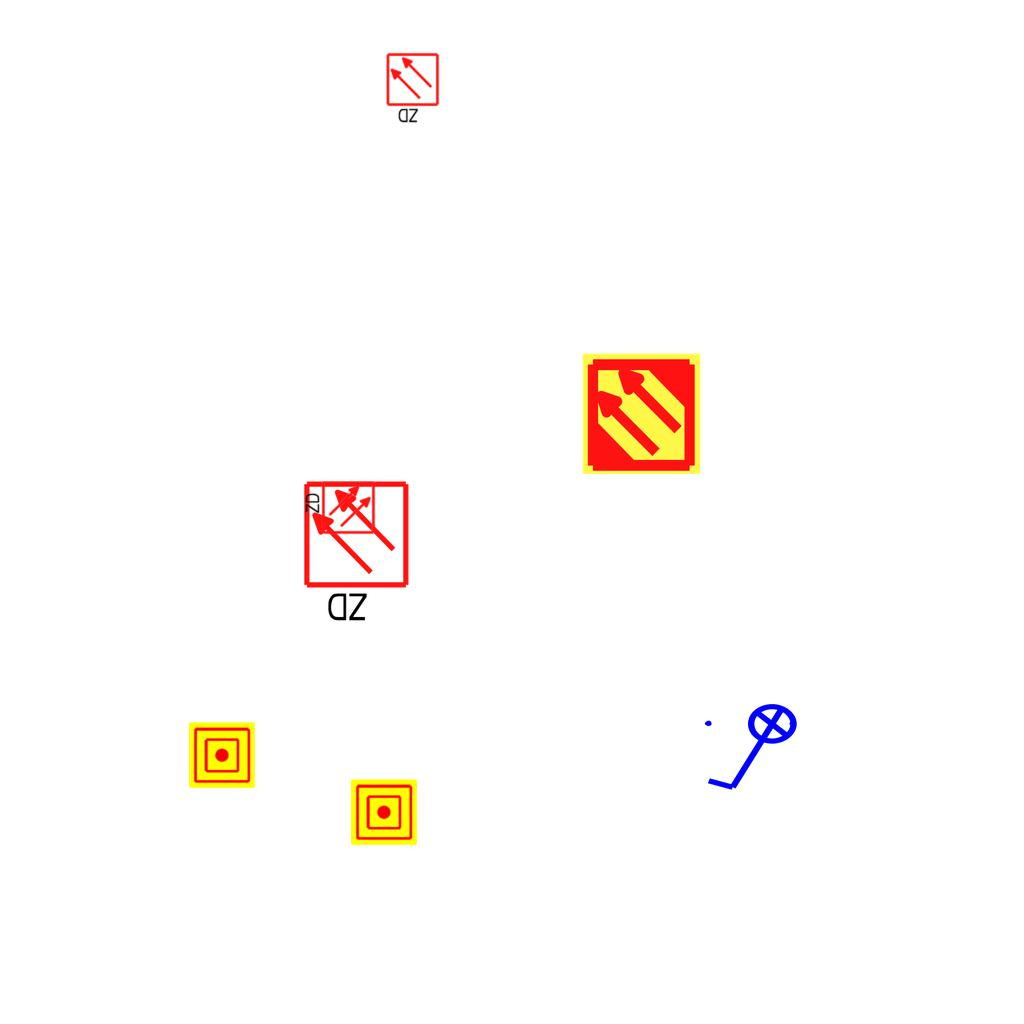ASR_Ansaugrauchmelder: (579, 351, 704, 476)
Ausschalter_beleuchtet: (699, 702, 811, 798)
NAM-Nichtautomatischer_Melder: (351, 779, 417, 845), (189, 722, 255, 788)
ZD_Melder_in_Zwischendecke_mit_Revisionsoeffnung_mind_40_x_40_cm: (301, 479, 415, 628), (385, 52, 442, 126), (302, 480, 376, 537)
